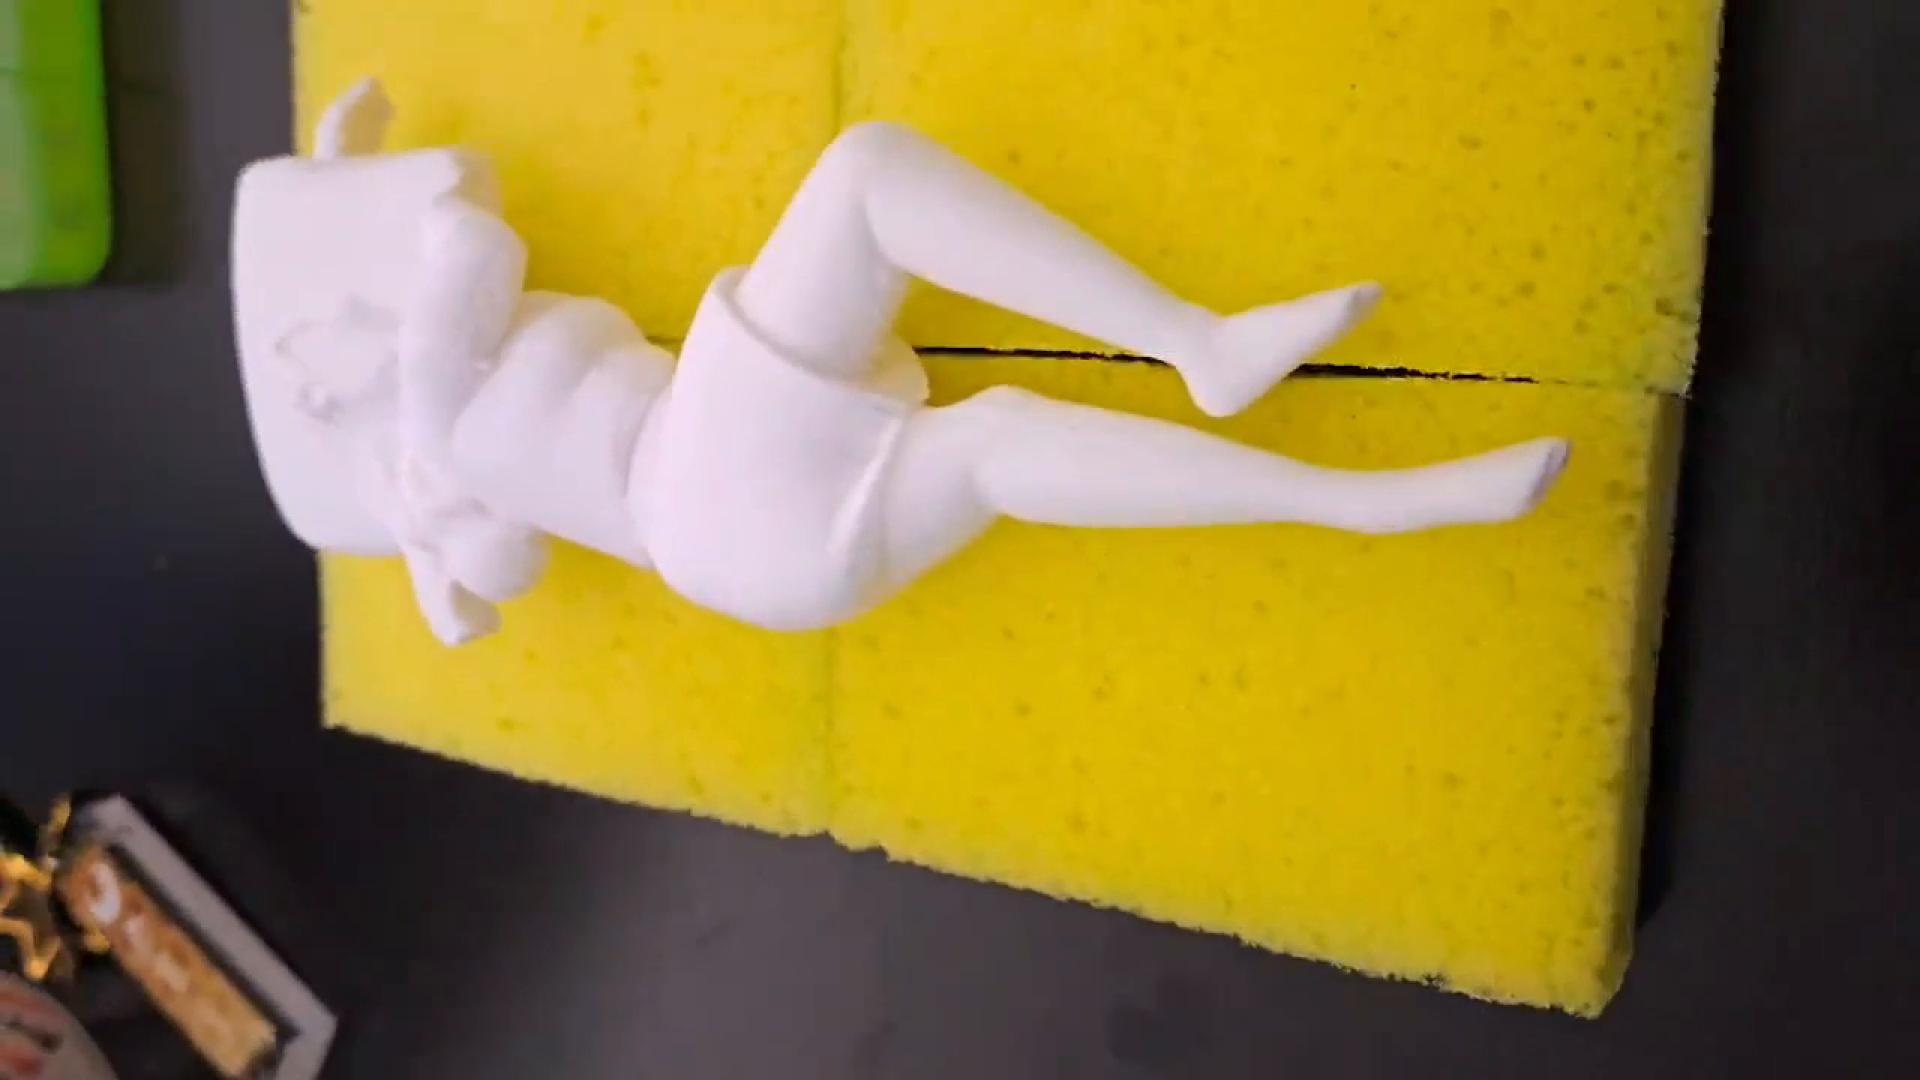Good-style: (223, 79, 1571, 646)
